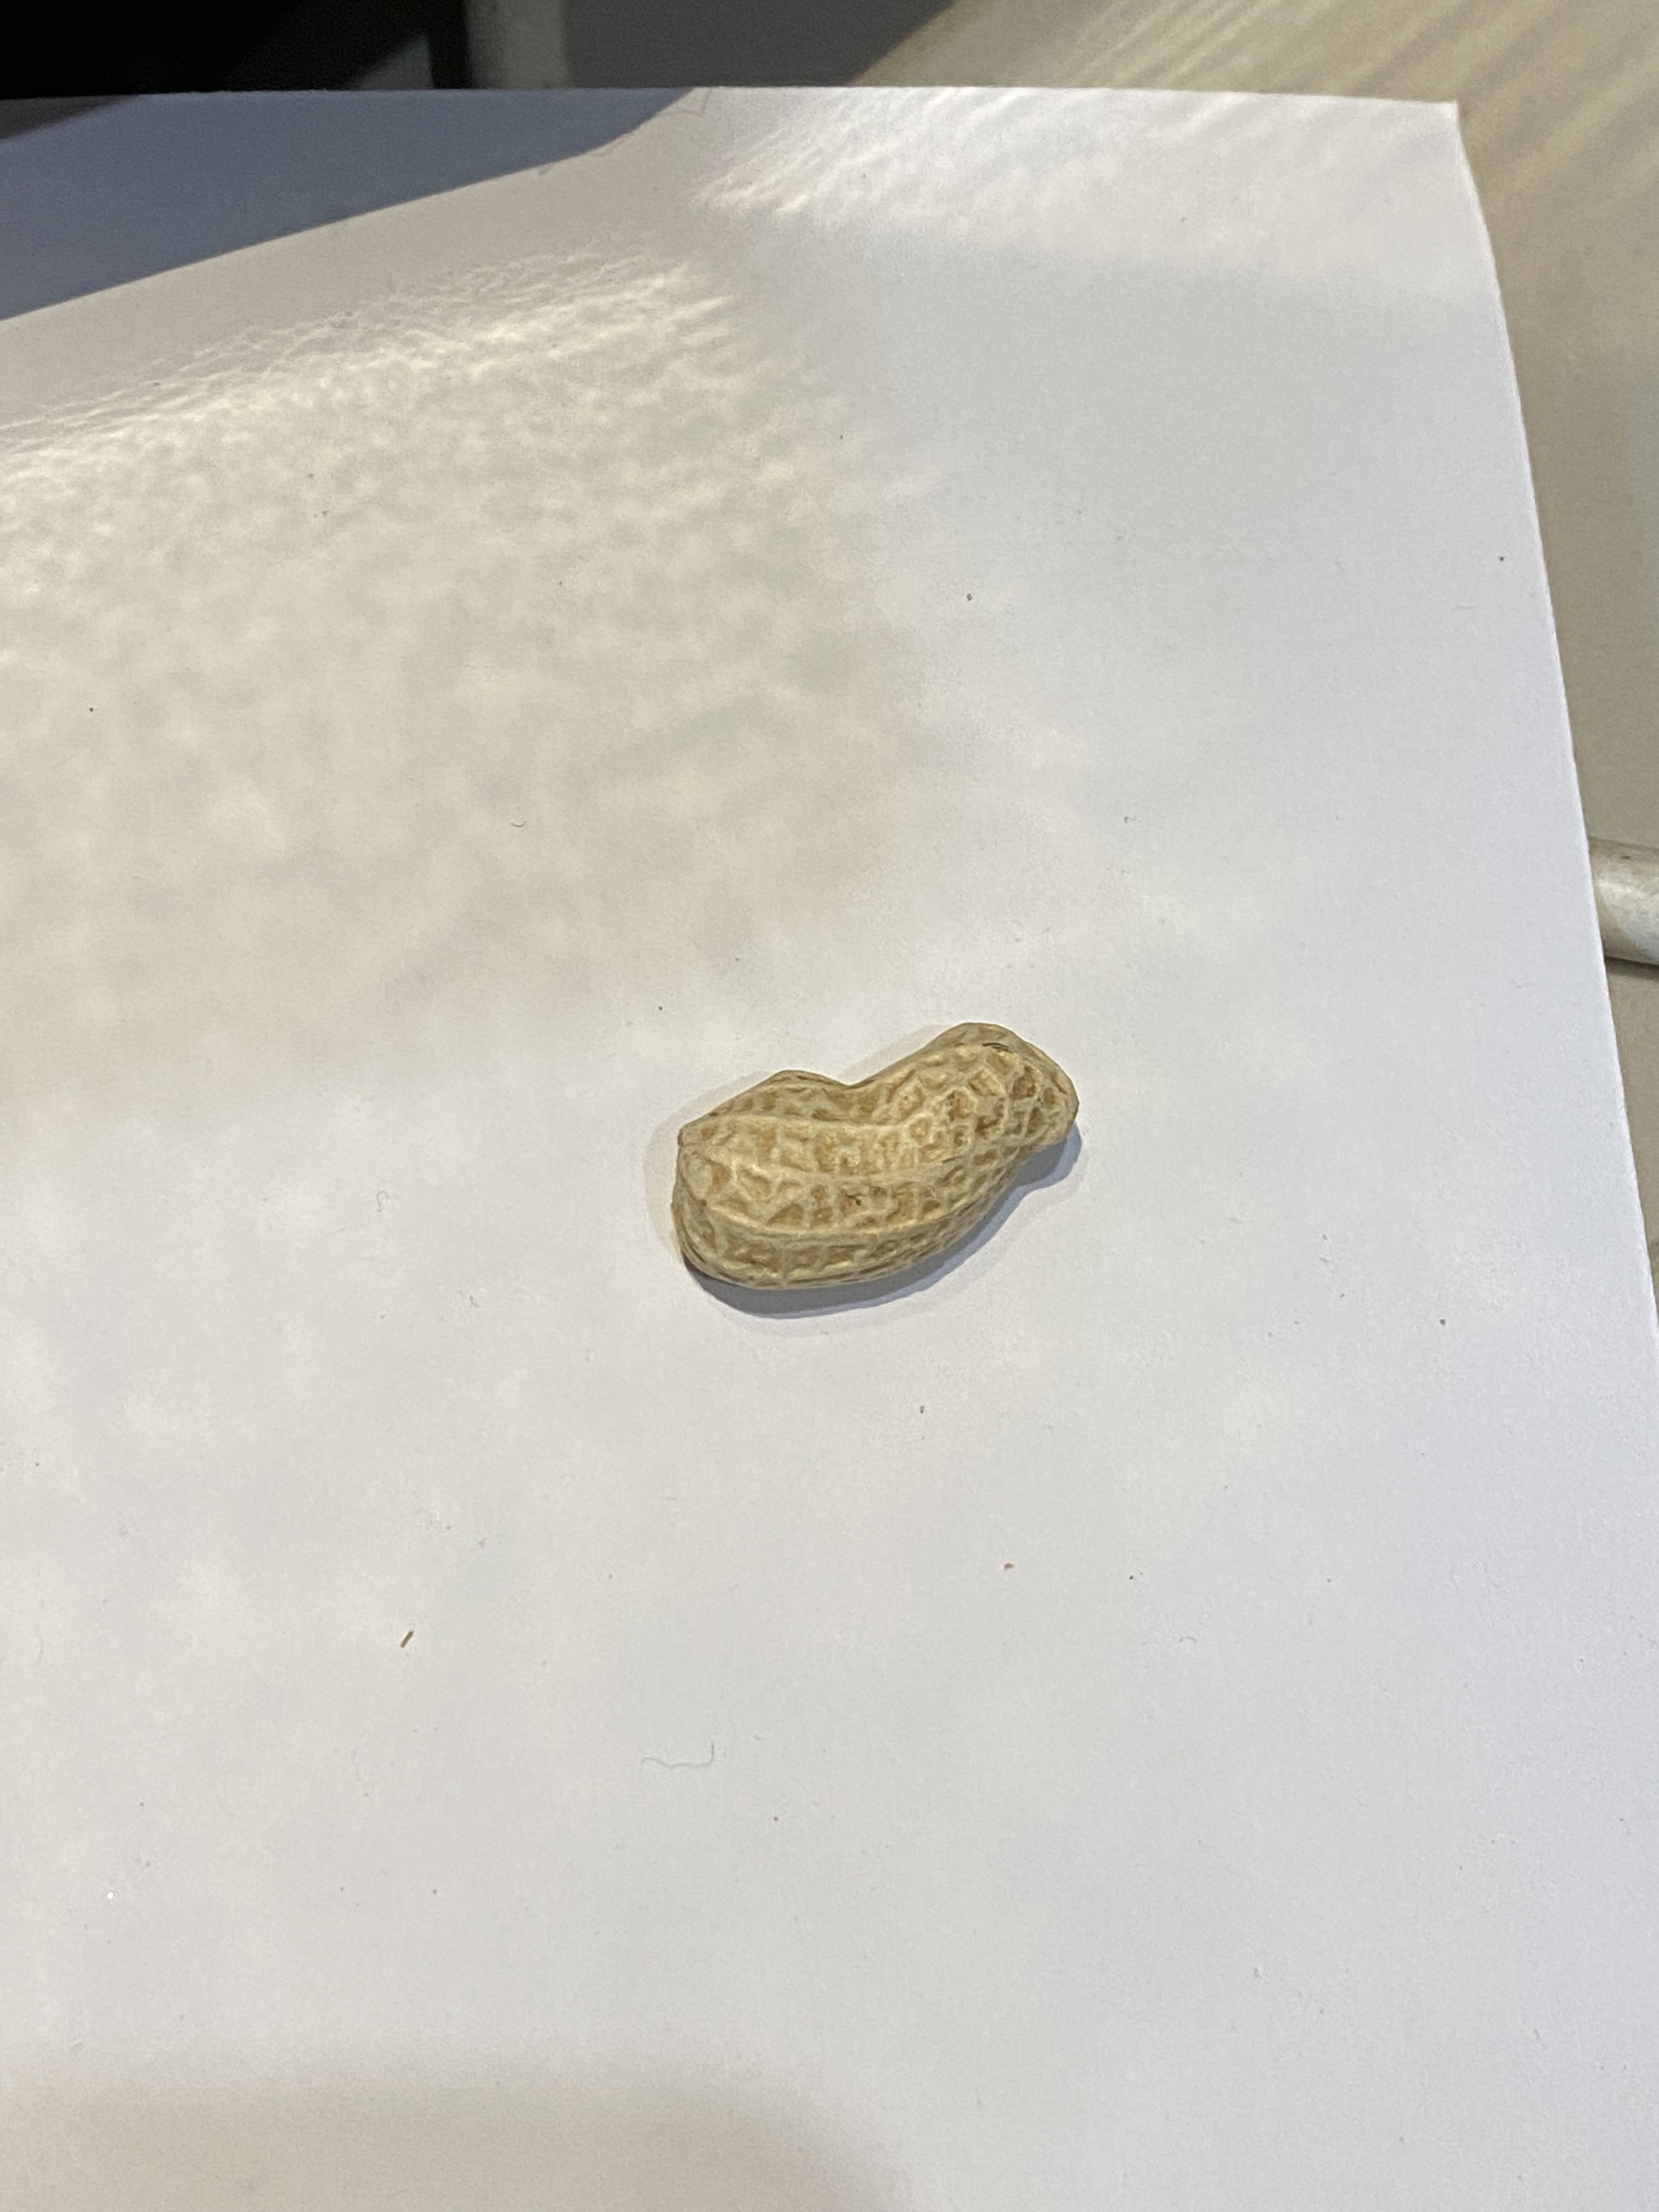kacang2: (643, 1000, 1098, 1301)
